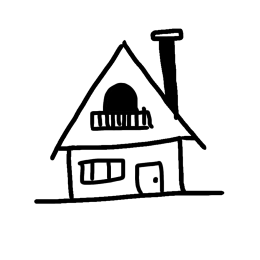chimney: (144, 16, 187, 118)
closed_window: (76, 156, 131, 185)
door: (131, 158, 167, 198)
roof: (32, 38, 214, 152)
wall: (61, 136, 190, 211)
